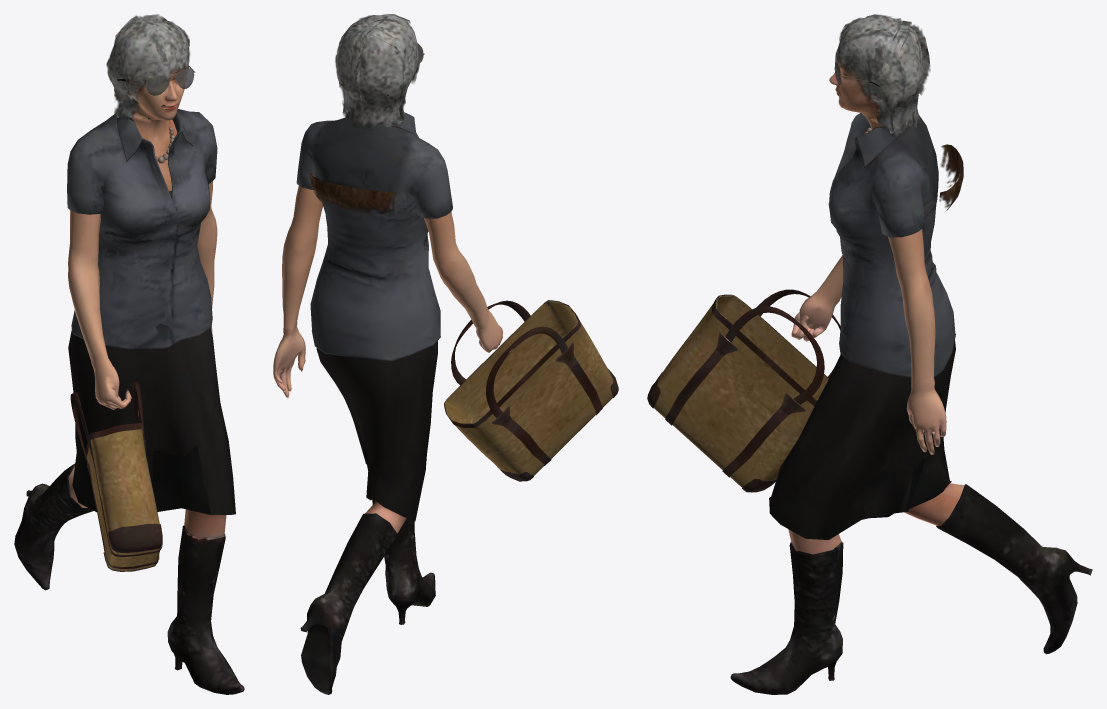
The picture shows the model from 3 angles, left to right: view 1: azimuth 30°, elevation 25°; view 2: azimuth 150°, elevation 25°; view 3: azimuth 270°, elevation 25°; orthographic projection. The views are drawn at different scales.
Visible parts, largest first — view 1: p04415; view 2: p04415; view 3: p04415.
Part boxes in pixels (x1=…): p04415: x1=14, y1=14, x2=244, y2=694; p04415: x1=273, y1=14, x2=618, y2=694; p04415: x1=647, y1=14, x2=1092, y2=694.
Size of the model in its own units: 0.595 by 1.63 by 0.9945.
Materials: 1 (1 with a texture image).
